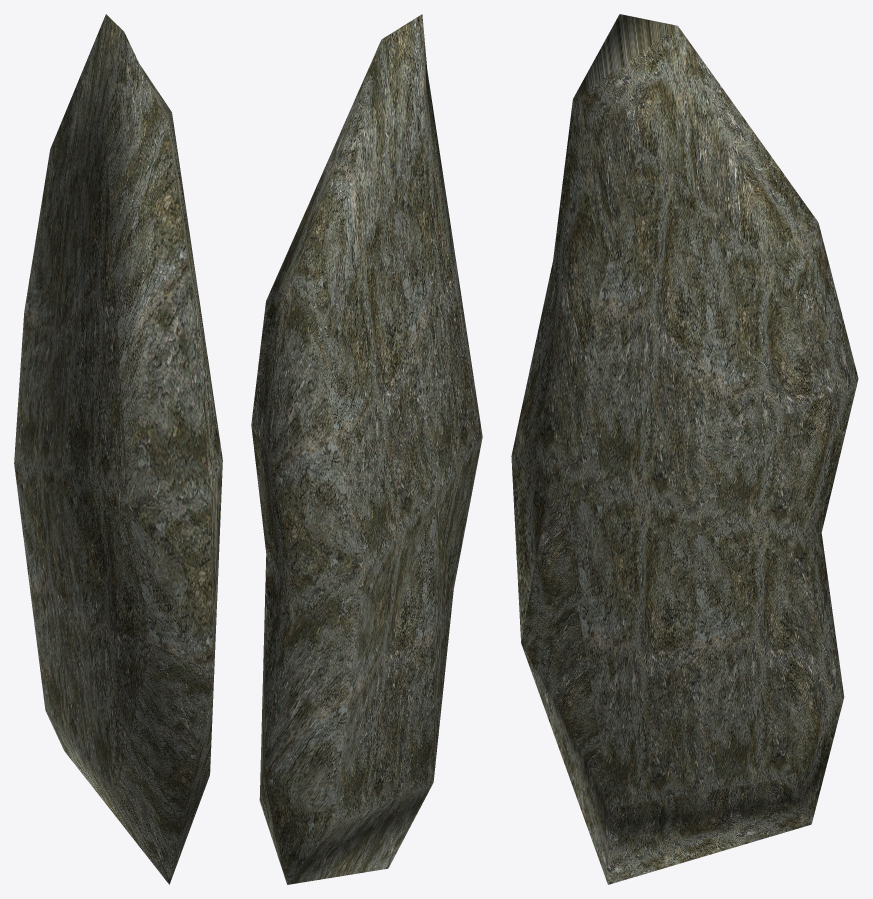
File: rock_dant_a2_l2.fbx
3 renders of one model, left to right at view 1: azimuth 30°, elevation 25°; view 2: azimuth 150°, elevation 25°; view 3: azimuth 270°, elevation 25°, orthographic.
Visible parts, largest first — view 1: mesh_node; view 2: mesh_node; view 3: mesh_node.
Boxes of the visible parts, box(x1,y1,x2,y2) form: mesh_node: box(14, 14, 222, 884); mesh_node: box(251, 14, 482, 884); mesh_node: box(511, 14, 858, 884).
Size of the model in its own units: 0.8257 by 5.24 by 1.93.
Materials: 1 (1 with a texture image).
